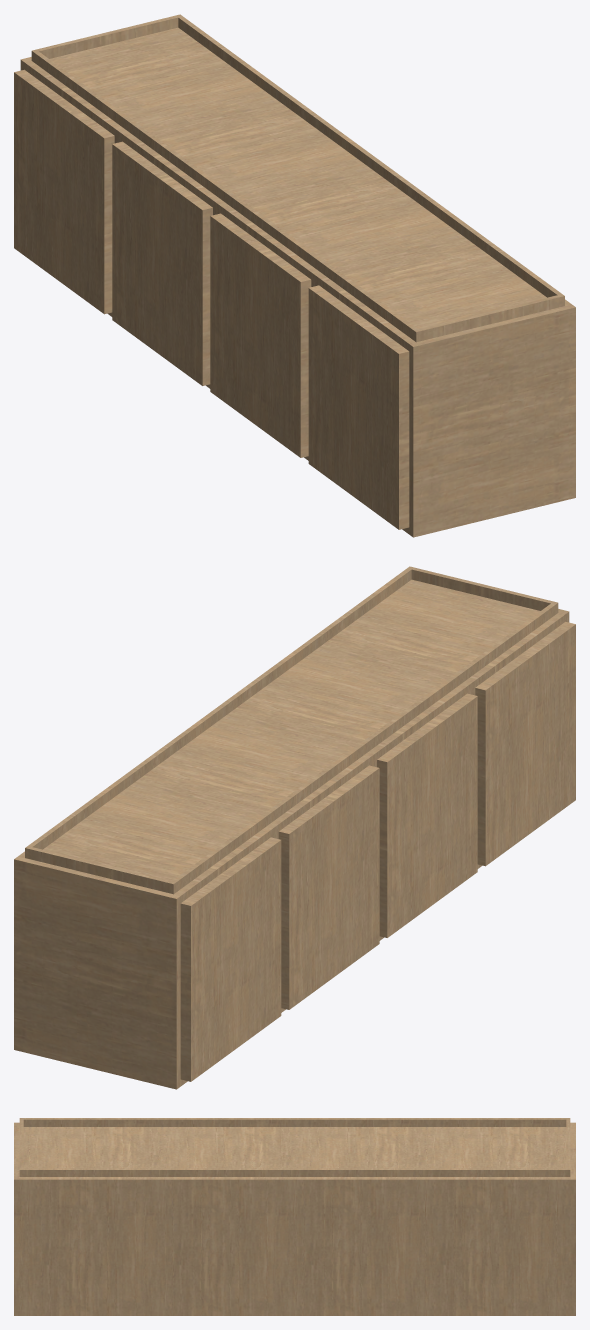
The model's file is Cabinet_02.fbx.
3 renders of one model, top to bottom at view 1: azimuth 30°, elevation 25°; view 2: azimuth 150°, elevation 25°; view 3: azimuth 270°, elevation 25°, orthographic. The views are drawn at different scales.
Parts seen in each view (by area): view 1: propCabinet_02; view 2: propCabinet_02; view 3: propCabinet_02.
Boxes of the visible parts, bbox=[...] form: propCabinet_02: bbox=[14, 14, 575, 537]; propCabinet_02: bbox=[14, 566, 575, 1089]; propCabinet_02: bbox=[14, 1118, 575, 1315].
Size of the model in its own units: 74.27 by 82.25 by 292.
Materials: 1 (1 with a texture image).
